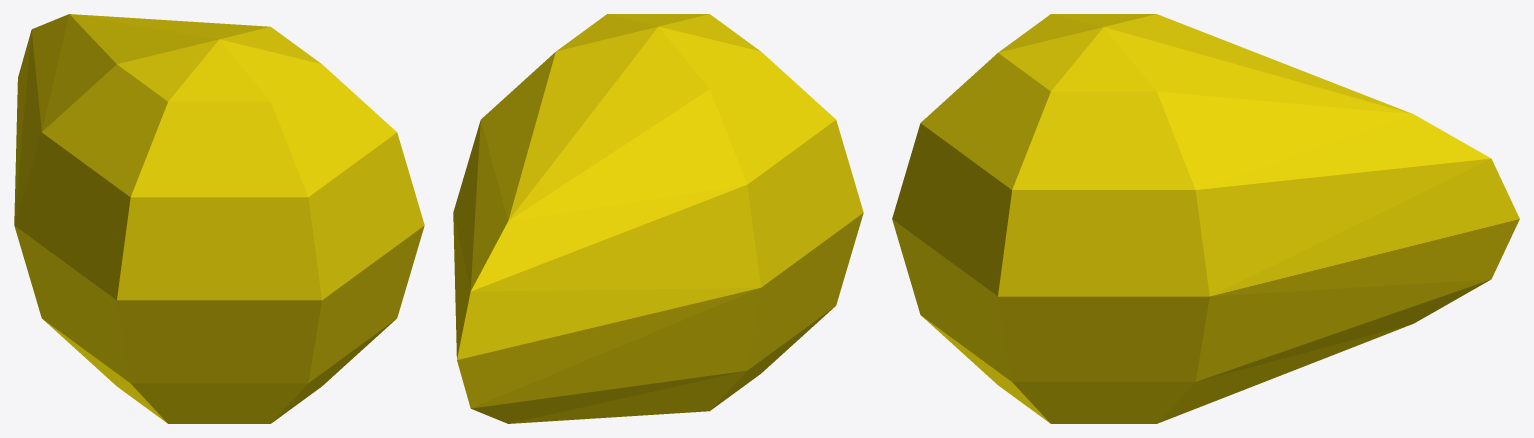
File: Shot.dae
The picture shows the model from 3 angles, left to right: view 1: azimuth 30°, elevation 25°; view 2: azimuth 150°, elevation 25°; view 3: azimuth 270°, elevation 25°; orthographic projection. The views are drawn at different scales.
Parts seen in each view (by area): view 1: 球; view 2: 球; view 3: 球.
Part boxes in pixels (x1=…): 球: x1=14, y1=14, x2=424, y2=423; 球: x1=453, y1=14, x2=863, y2=423; 球: x1=892, y1=14, x2=1519, y2=423.
Bounding box in the file's own units: 0.1732 × 0.2964 × 0.2.
